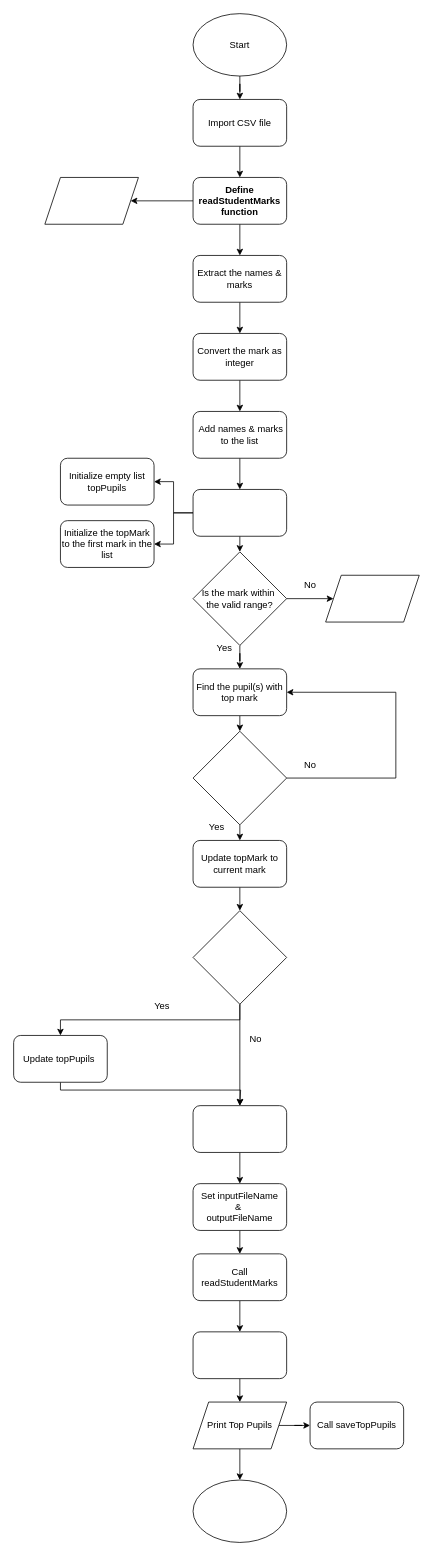
This 433x1556 diagram has some shape labels left out. Here are the shapes that lost their labels. From the top down, the centre of each, then its label:
point (91, 200): Initialize an empty list students
point (239, 512): Define findTopPupil function
point (372, 598): Invalid mark
point (239, 777): Is the mark greater than topMark?
point (239, 957): Is the mark equal to topMark?
point (239, 1128): Define saveTopPupils function
point (239, 1355): Call findTopPupil
point (239, 1510): End
